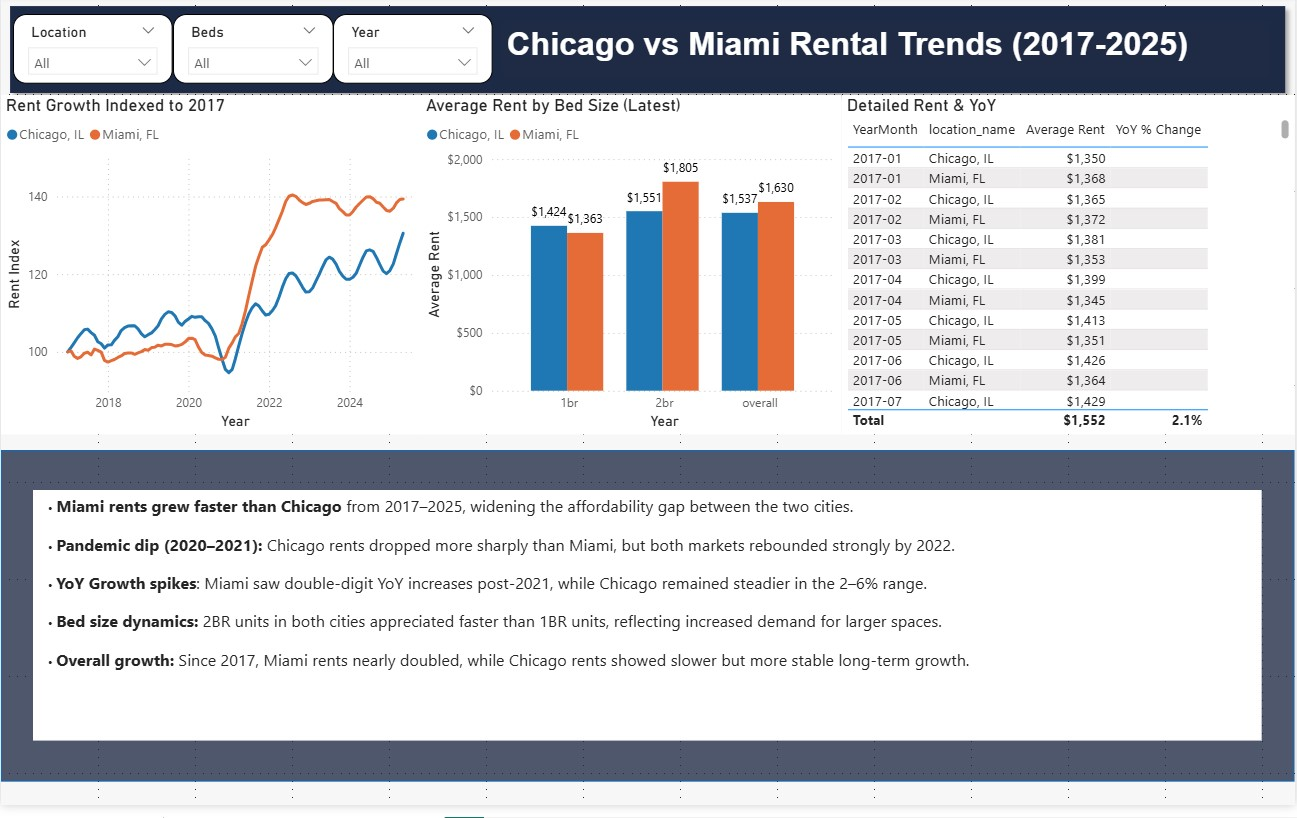

This screenshot's page, from the dashboard's own definition file:
{"tool":"powerbi","page":{"name":"Chicago vs Miami Rental Trends (2017-2025) Page 2","canvas":[1280,800],"ordinal":1},"visuals":[{"type":"shape","box":[0,448,1280,328],"z":0},{"type":"shape","box":[0,0,1280,104],"z":1000},{"type":"slicer","title":"Location","fields":{"Values":["Sheet1.location_name"]},"box":[12,17,158,69],"z":2000},{"type":"slicer","fields":{"Values":["Sheet1.bed_size"]},"box":[170,17,159,69],"z":3000},{"type":"slicer","fields":{"Values":["Date.Year"]},"box":[329,17,158,69],"z":4000},{"type":"lineChart","title":"Rent Growth Indexed to 2017","fields":{"Category":["Date.Date"],"Series":["Sheet1.location_name"],"Y":["_Measures.Rent Index"]},"box":[0,97,416,336],"z":5000},{"type":"clusteredColumnChart","title":"Average Rent by Bed Size (Latest)","fields":{"Category":["Sheet1.bed_size"],"Series":["Sheet1.location_name"],"Y":["_Measures.Average Rent"]},"box":[416,97,416,336],"z":6000},{"type":"tableEx","title":"Detailed Rent & YoY","fields":{"Values":["Date.YearMonth","Sheet1.location_name","_Measures.Average Rent","_Measures.YoY % Change"]},"box":[832,97,448,336],"z":7000},{"type":"textbox","box":[32,488,1216,248],"z":8000},{"type":"textbox","box":[496,24,760,56],"z":9000}]}

Visuals, with their boxes in screenshot pixels (x1, y1, x2, y2), scaled from the page's 1280x800 canvas onto the 1297x818 screenshot:
shape: box=[0, 458, 1296, 793]
shape: box=[0, 0, 1296, 106]
"Location" slicer: box=[12, 17, 172, 88]
slicer - Sheet1.bed_size: box=[172, 17, 333, 88]
slicer - Date.Year: box=[333, 17, 493, 88]
"Rent Growth Indexed to 2017" lineChart: box=[0, 99, 422, 443]
"Average Rent by Bed Size (Latest)" clusteredColumnChart: box=[422, 99, 843, 443]
"Detailed Rent & YoY" tableEx: box=[843, 99, 1296, 443]
textbox: box=[32, 499, 1265, 753]
textbox: box=[503, 25, 1273, 82]
